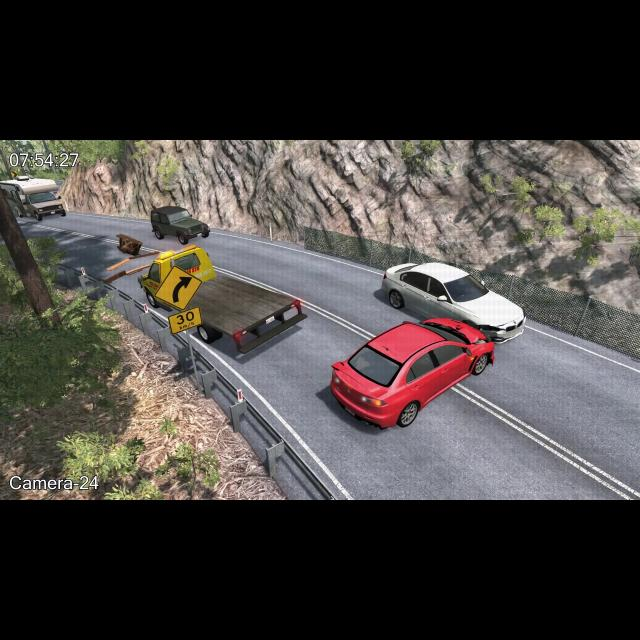accident: (325, 262, 525, 426)
